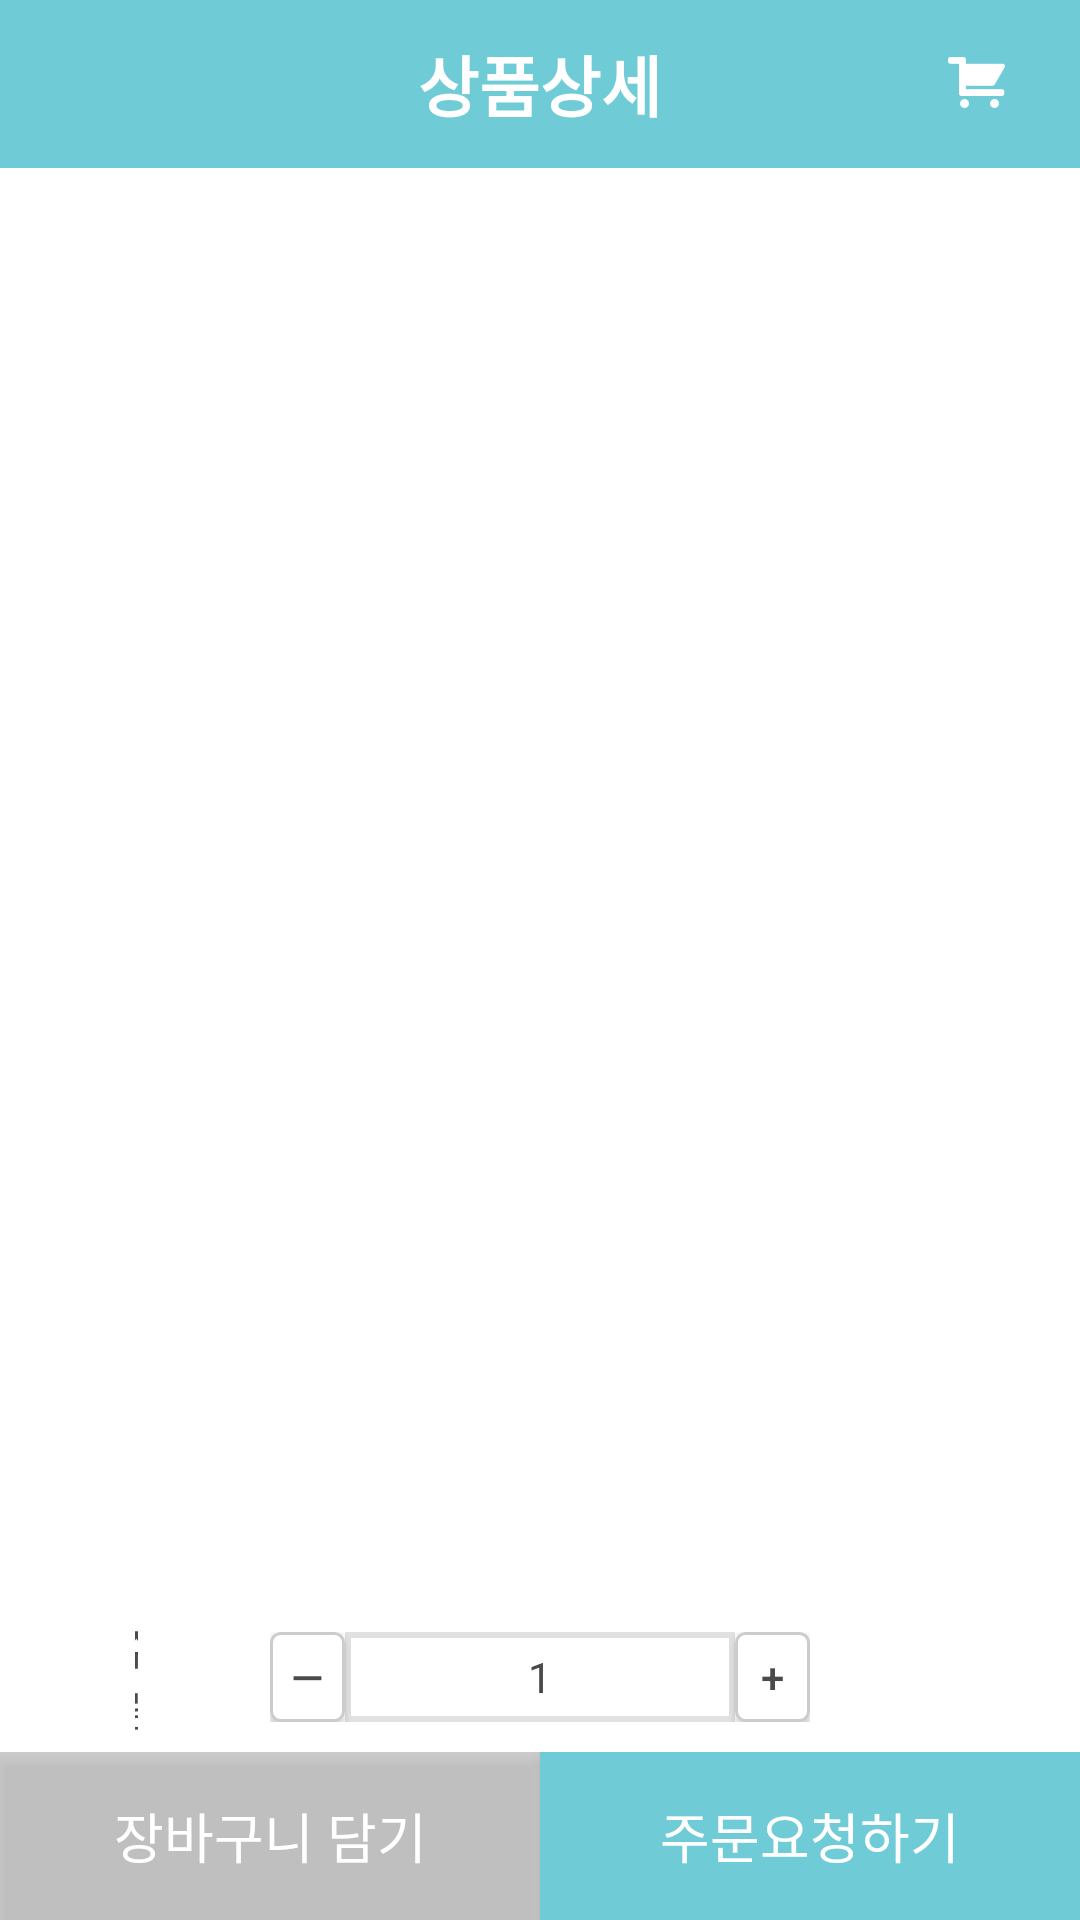

Icons on this 1080*1920 Android screen, each with the point to tap as (x=x, y=y):
shopping cart: (x=976, y=82)
